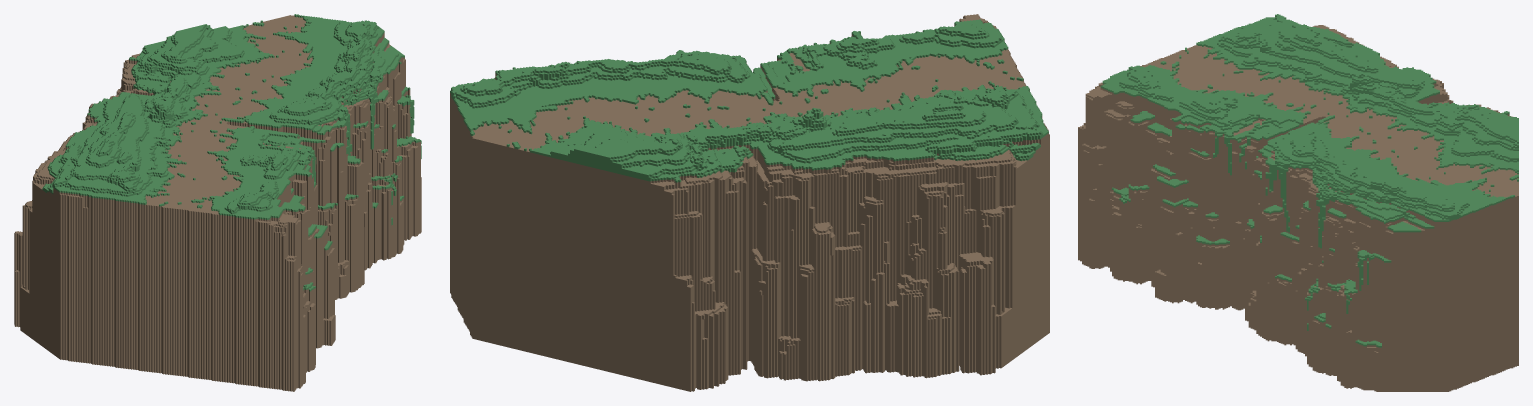
Rendered from Cubeland-20.obj.
3 renders of one model, left to right at view 1: azimuth 30°, elevation 25°; view 2: azimuth 150°, elevation 25°; view 3: azimuth 270°, elevation 25°, orthographic. The views are drawn at different scales.
Bounding box in the file's own units: 25.6 × 11.1 × 23.5.
Materials: 1 (1 with a texture image).
